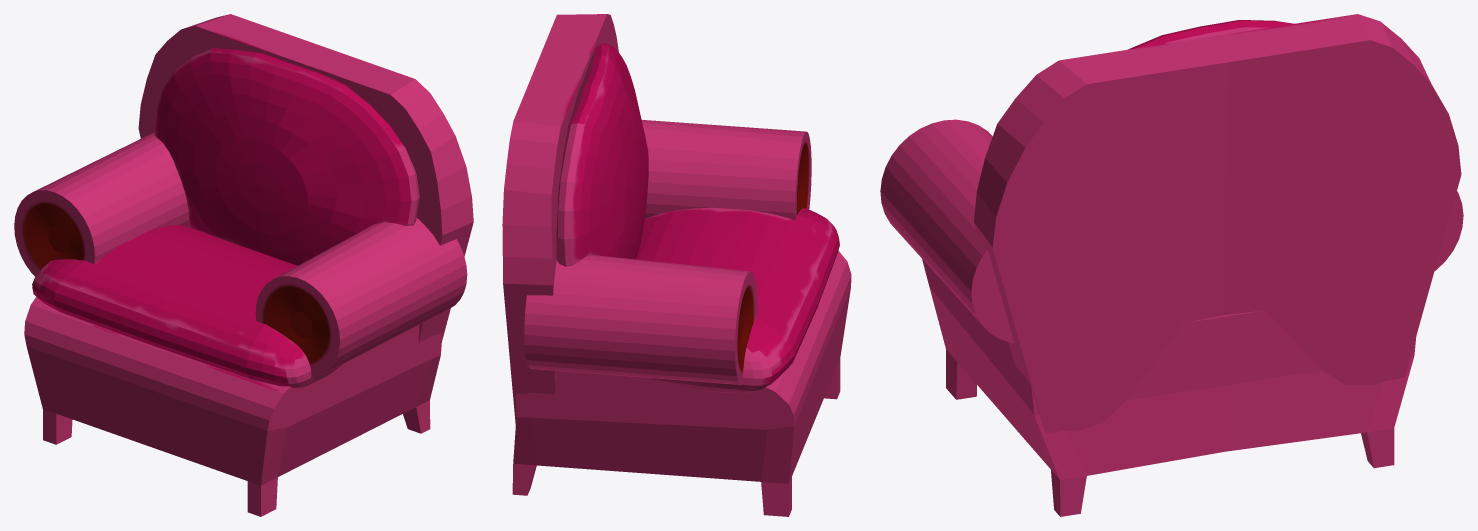
File: ArmChair.fbx
The picture shows the model from 3 angles, left to right: view 1: azimuth 30°, elevation 25°; view 2: azimuth 150°, elevation 25°; view 3: azimuth 270°, elevation 25°; orthographic projection. The views are drawn at different scales.
Visible parts, largest first — view 1: Chair; view 2: Chair; view 3: Chair.
Part boxes in pixels (x1,y1,x2,y2): Chair: (14, 14, 473, 516); Chair: (502, 14, 851, 516); Chair: (880, 14, 1463, 516).
Bounding box in the file's own units: 24837 × 20217 × 20577.
1 material, 1 textured.
